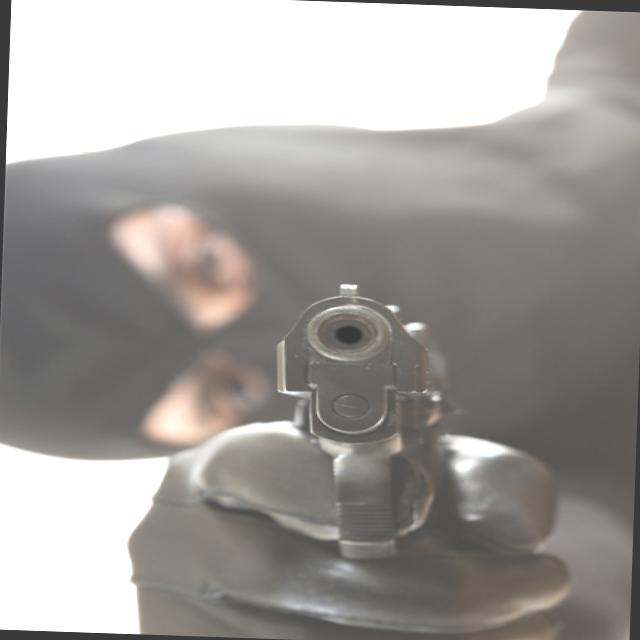handgun: (247, 264, 477, 570)
